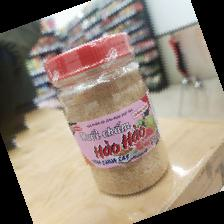Hao_hao: (43, 31, 173, 198)
